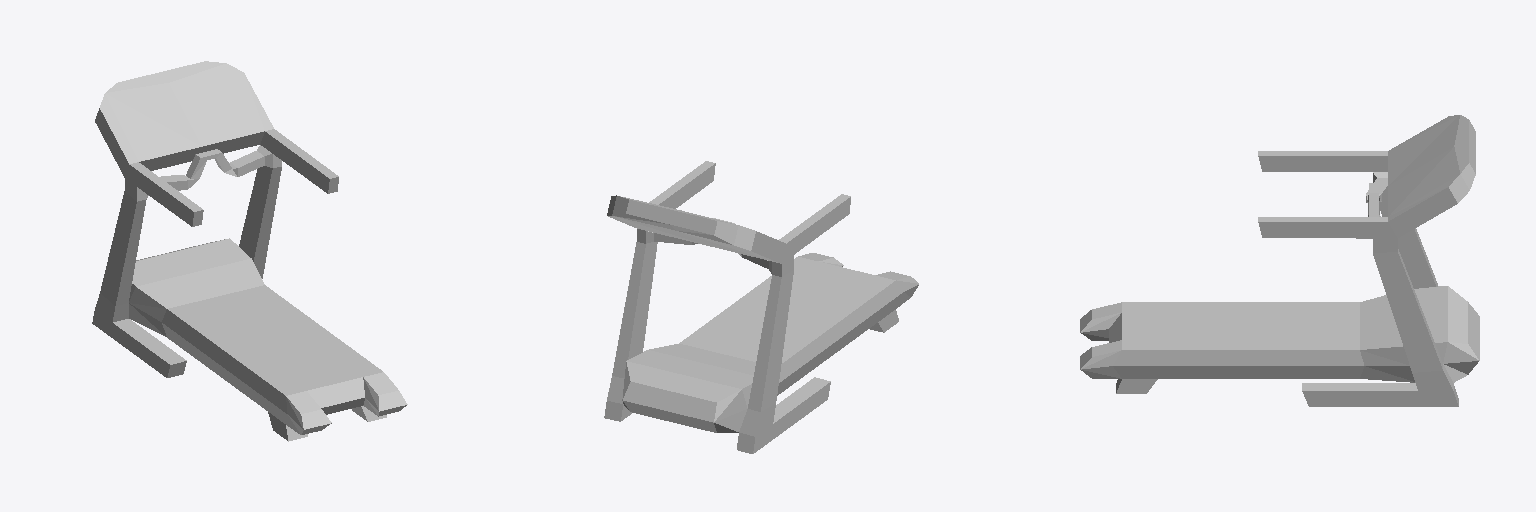
The model's file is treadmill.obj.
3 views of the same model, side by side, from view 1: azimuth 30°, elevation 25°; view 2: azimuth 150°, elevation 25°; view 3: azimuth 270°, elevation 25° (orthographic).
Parts seen in each view (by area): view 1: TreadmillMesh; view 2: TreadmillMesh; view 3: TreadmillMesh.
Part boxes in pixels (x1,y1,x2,y2): TreadmillMesh: (92,61,407,441); TreadmillMesh: (604,161,918,453); TreadmillMesh: (1080,115,1479,406).
Size of the model in its own units: 3.2 by 4.73 by 7.45.